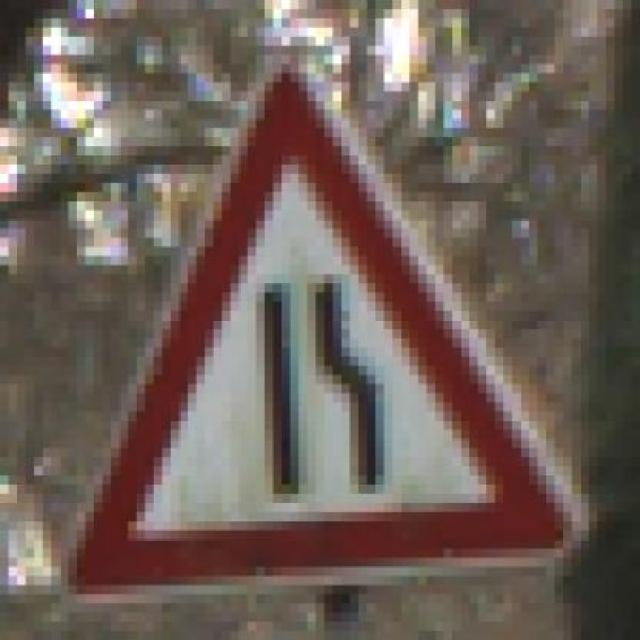-Road narrows on right: (51, 46, 589, 603)
